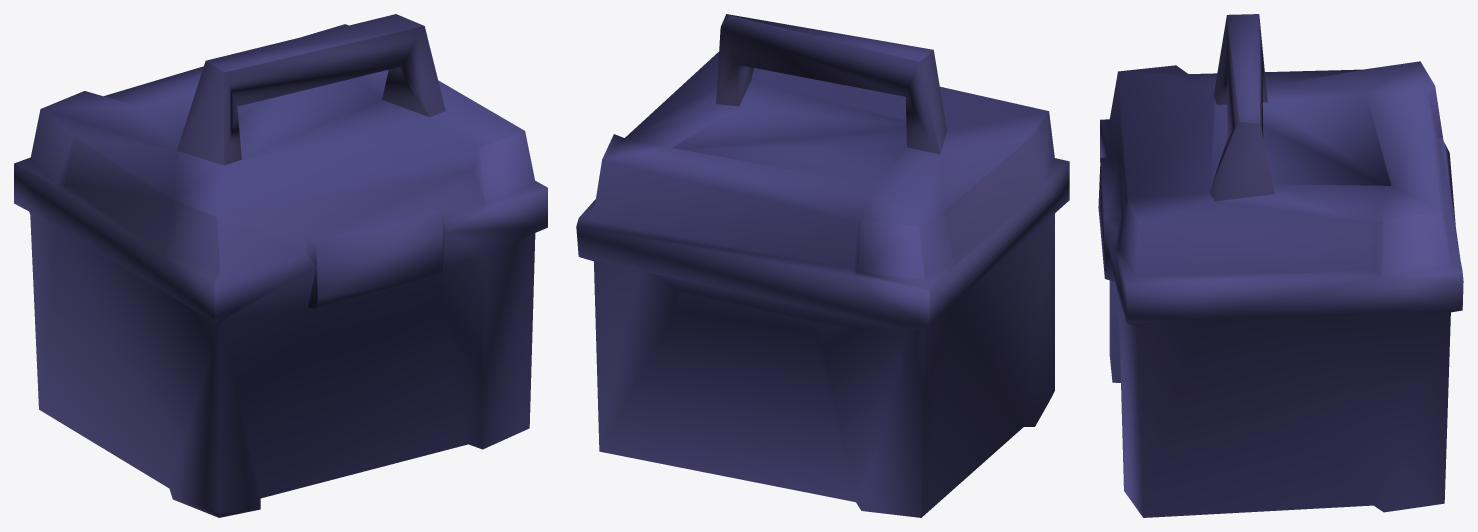
File: model.progressive.glb
3 views of the same model, side by side, from view 1: azimuth 30°, elevation 25°; view 2: azimuth 150°, elevation 25°; view 3: azimuth 270°, elevation 25° (orthographic). The views are drawn at different scales.
Visible parts, largest first — view 1: ArmourToolBox2; view 2: ArmourToolBox2; view 3: ArmourToolBox2.
Boxes of the visible parts, box(x1,y1,x2,y2) form: ArmourToolBox2: box(14, 14, 547, 517); ArmourToolBox2: box(576, 14, 1069, 517); ArmourToolBox2: box(1098, 14, 1463, 517).
Bounding box in the file's own units: 0.3457 × 0.3436 × 0.2988.
Materials: 1 (1 with a texture image).
